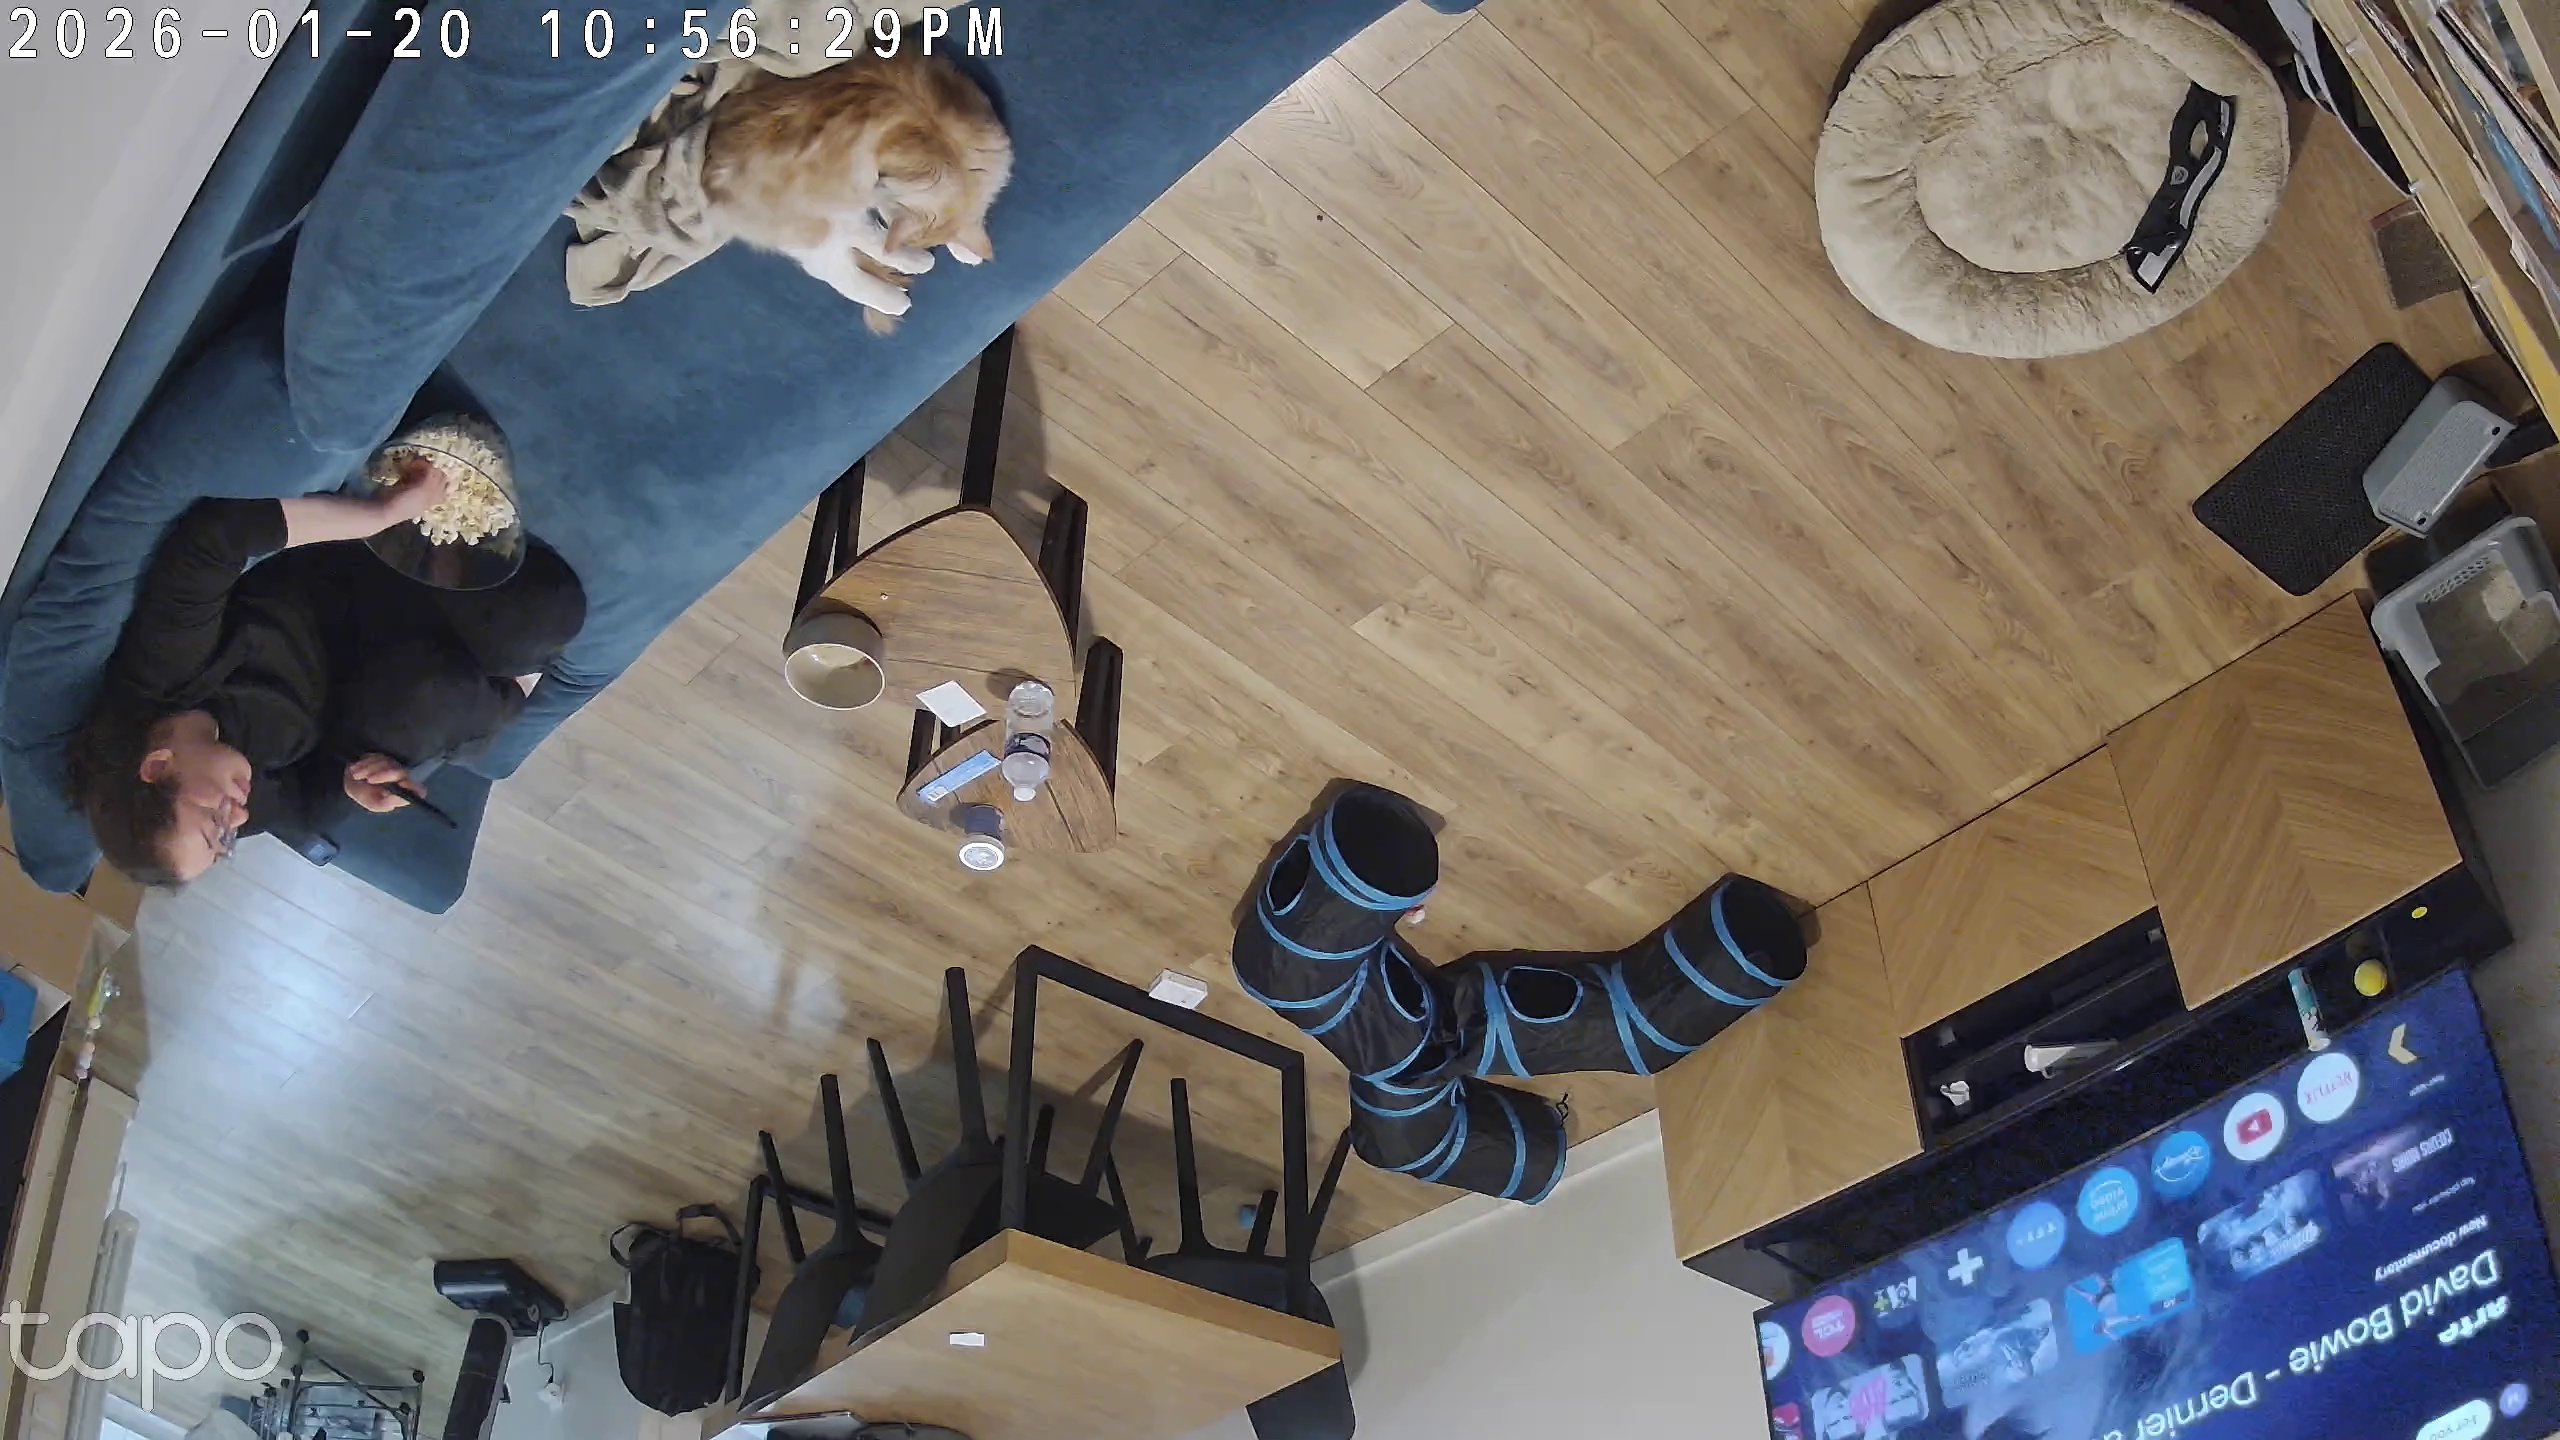Simba: (687, 16, 1041, 329)
